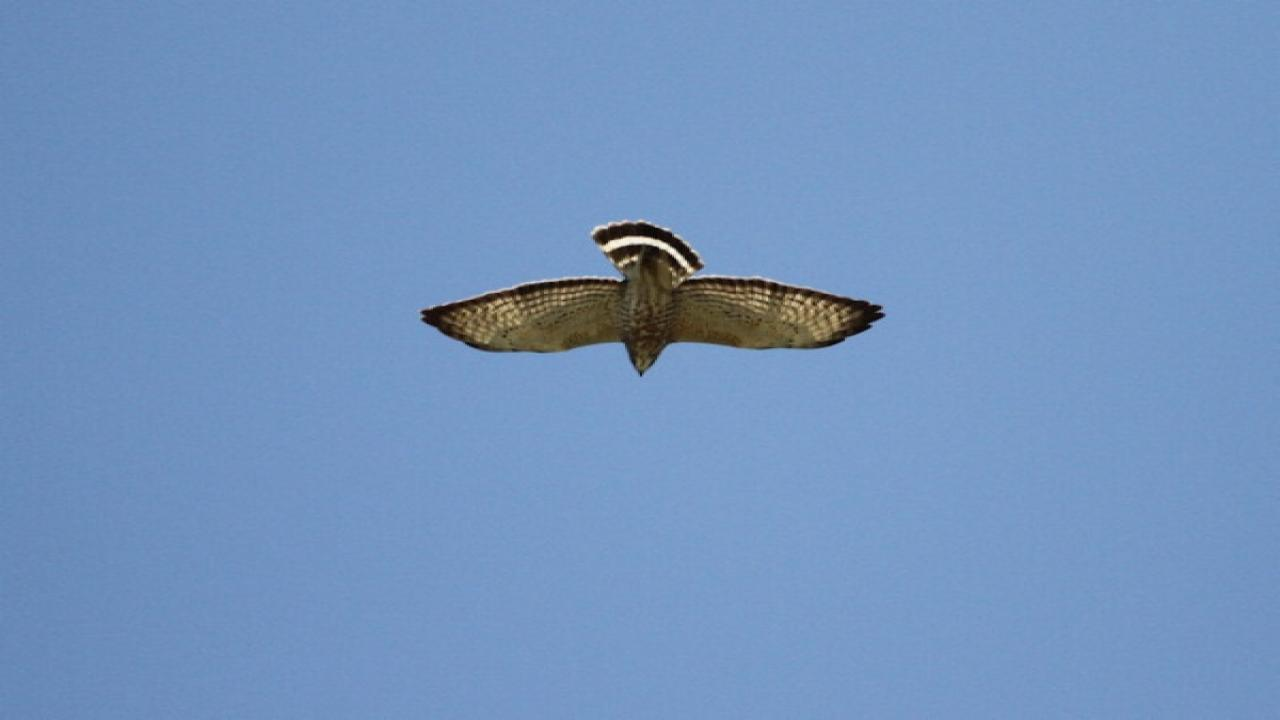Bird: (406, 213, 898, 382)
